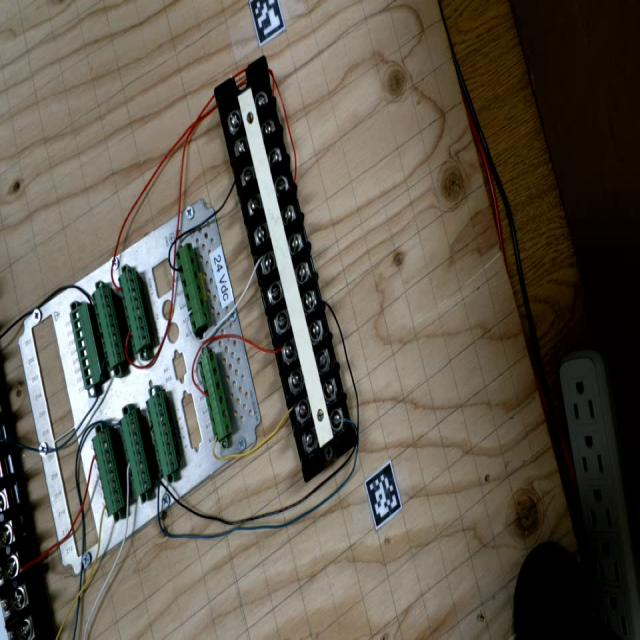Flathead_Block: (209, 55, 362, 482)
Terminal_1: (173, 242, 212, 333), (197, 351, 234, 442)
Terminal_2: (116, 409, 154, 500), (90, 284, 127, 372), (90, 427, 126, 517), (144, 390, 180, 479), (116, 266, 152, 355)
